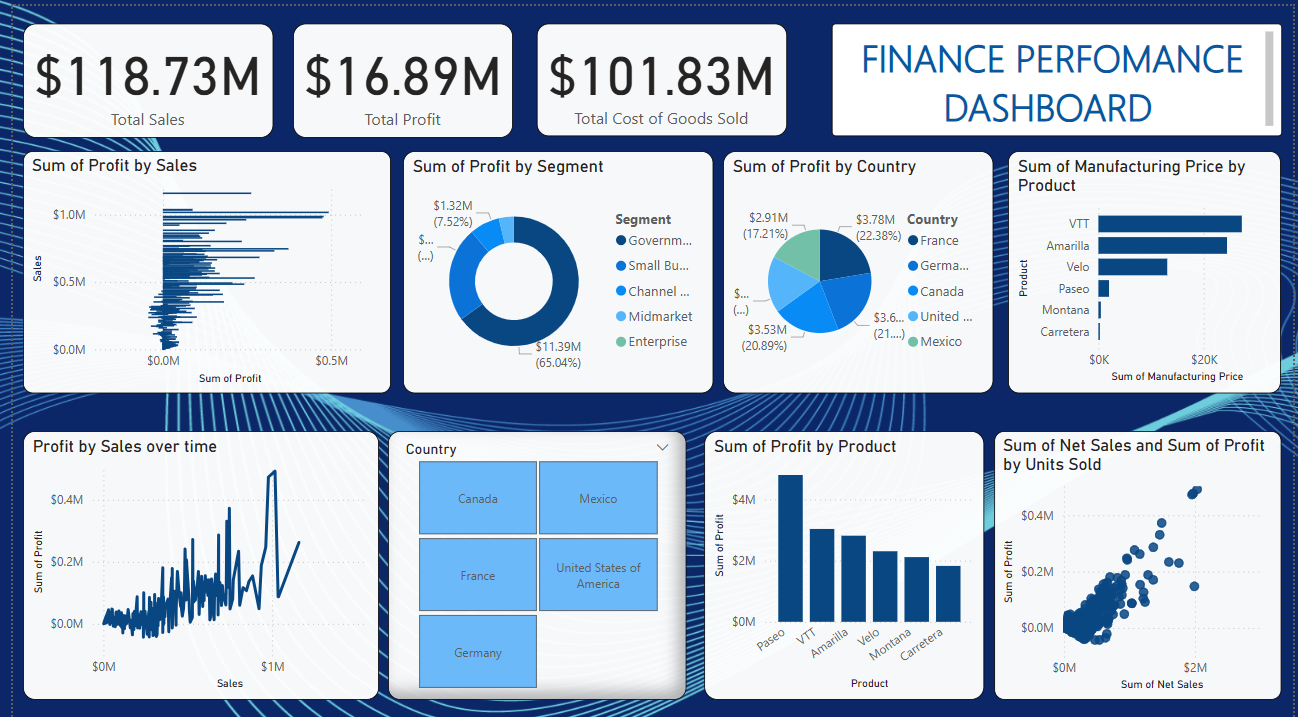

The dashboard page shown, as its layout file describes it:
{"tool":"powerbi","page":{"name":"Page 1","canvas":[1280,720],"ordinal":0},"visuals":[{"type":"card","fields":{"Values":["Sum(financial_data.Sales)"]},"box":[10,17.1,250,114.3],"z":0},{"type":"card","fields":{"Values":["Sum(financial_data.Profit)"]},"box":[280,17.1,220,114.3],"z":1000},{"type":"card","fields":{"Values":["Sum(financial_data.COGS)"]},"box":[524.3,17.1,250,112.9],"z":2000},{"type":"clusteredBarChart","fields":{"Category":["financial_data.Sales"],"Y":["Sum(financial_data.Profit)"]},"box":[9.8,145.5,368.1,242.1],"z":3000},{"type":"donutChart","fields":{"Category":["financial_data.Segment"],"Y":["Sum(financial_data.Profit)"]},"box":[390.1,145.5,310.6,242.1],"z":4000},{"type":"pieChart","fields":{"Category":["financial_data.Country"],"Y":["Sum(financial_data.Profit)"]},"box":[710.5,145.5,270.2,242.1],"z":5000},{"type":"lineChart","title":"Profit by Sales over time","fields":{"Y":["Sum(financial_data.Profit)"],"Category":["financial_data.Sales"]},"box":[9.8,425.5,355.8,269],"z":6000},{"type":"slicer","fields":{"Values":["financial_data.Country"]},"box":[375.4,425.5,298.4,269],"z":7000},{"type":"columnChart","fields":{"Y":["Sum(financial_data.Profit)"],"Category":["financial_data.Product"]},"box":[690.9,425.5,280,269],"z":8000},{"type":"textbox","box":[818.6,17.1,450,112.9],"z":9000},{"type":"barChart","fields":{"Y":["Sum(financial_data.Manufacturing Price)"],"Category":["financial_data.Product"]},"box":[995.4,145.5,272.7,242.1],"z":10000},{"type":"scatterChart","fields":{"X":["Sum(financial_data.Net Sales)"],"Y":["Sum(financial_data.Profit)"],"Category":["financial_data.Units Sold"]},"box":[980.7,425.5,287.4,269],"z":11000}]}

Visuals, with their boxes in screenshot pixels (x1, y1, x2, y2), scaled from the page's 1280x720 canvas onto the 1298x717 screenshot:
card - Sum(financial_data.Sales): 10:17:264:131
card - Sum(financial_data.Profit): 284:17:507:131
card - Sum(financial_data.COGS): 532:17:785:129
clusteredBarChart - financial_data.Sales x Sum(financial_data.Profit): 10:145:383:386
donutChart - financial_data.Segment x Sum(financial_data.Profit): 396:145:711:386
pieChart - financial_data.Country x Sum(financial_data.Profit): 720:145:994:386
"Profit by Sales over time" lineChart: 10:424:371:692
slicer - financial_data.Country: 381:424:683:692
columnChart - Sum(financial_data.Profit) x financial_data.Product: 701:424:985:692
textbox: 830:17:1286:129
barChart - Sum(financial_data.Manufacturing Price) x financial_data.Product: 1009:145:1286:386
scatterChart - Sum(financial_data.Net Sales) x Sum(financial_data.Profit): 994:424:1286:692
